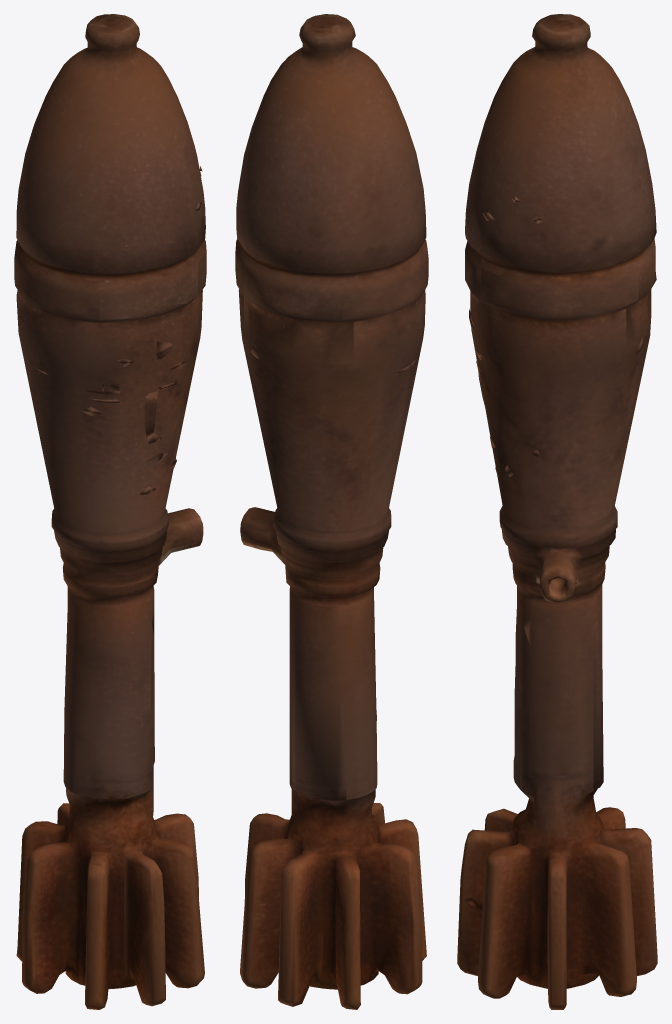
File: bomb2.glb
3 renders of one model, left to right at view 1: azimuth 30°, elevation 25°; view 2: azimuth 150°, elevation 25°; view 3: azimuth 270°, elevation 25°, orthographic.
Visible parts, largest first — view 1: material; view 2: material; view 3: material.
Boxes of the visible parts, left/top/right/bottom form: material: left=14, top=14, right=206, bottom=1009; material: left=235, top=14, right=428, bottom=1009; material: left=457, top=14, right=657, bottom=1009.
Bounding box in the file's own units: 0.3613 × 1.9 × 0.3613.
Materials: 1 (1 with a texture image).
